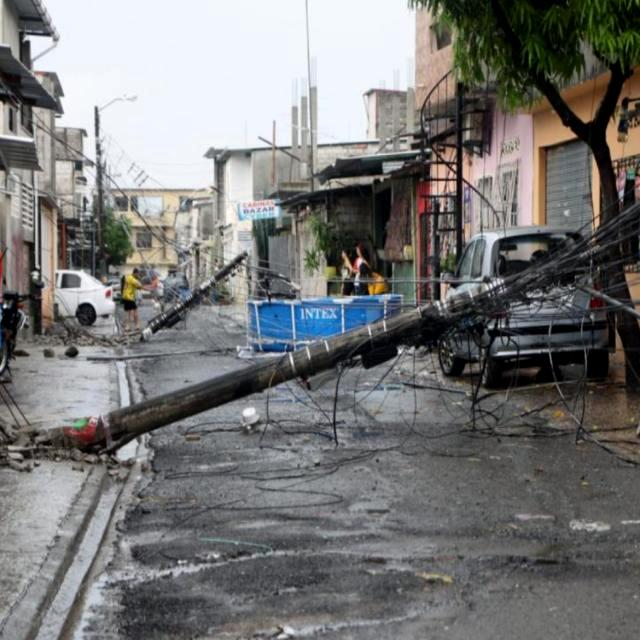Broken Pole: (13, 189, 636, 465)
